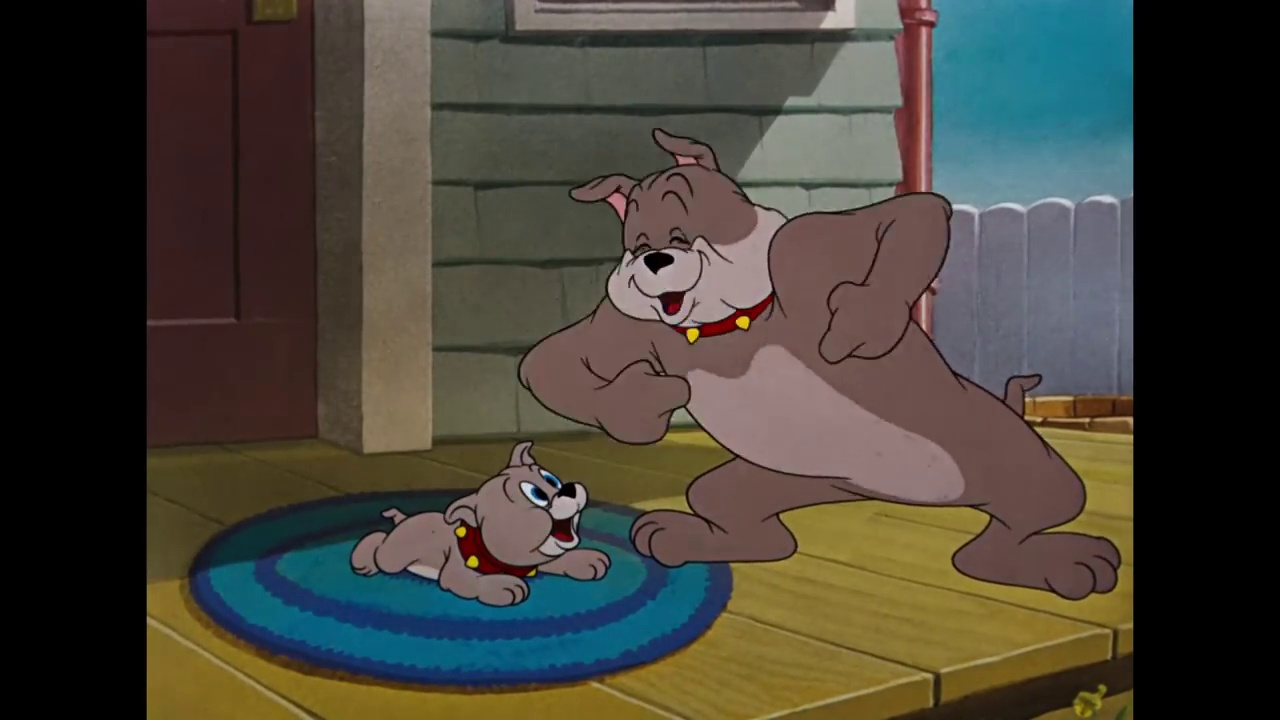spike: (565, 125, 799, 338)
